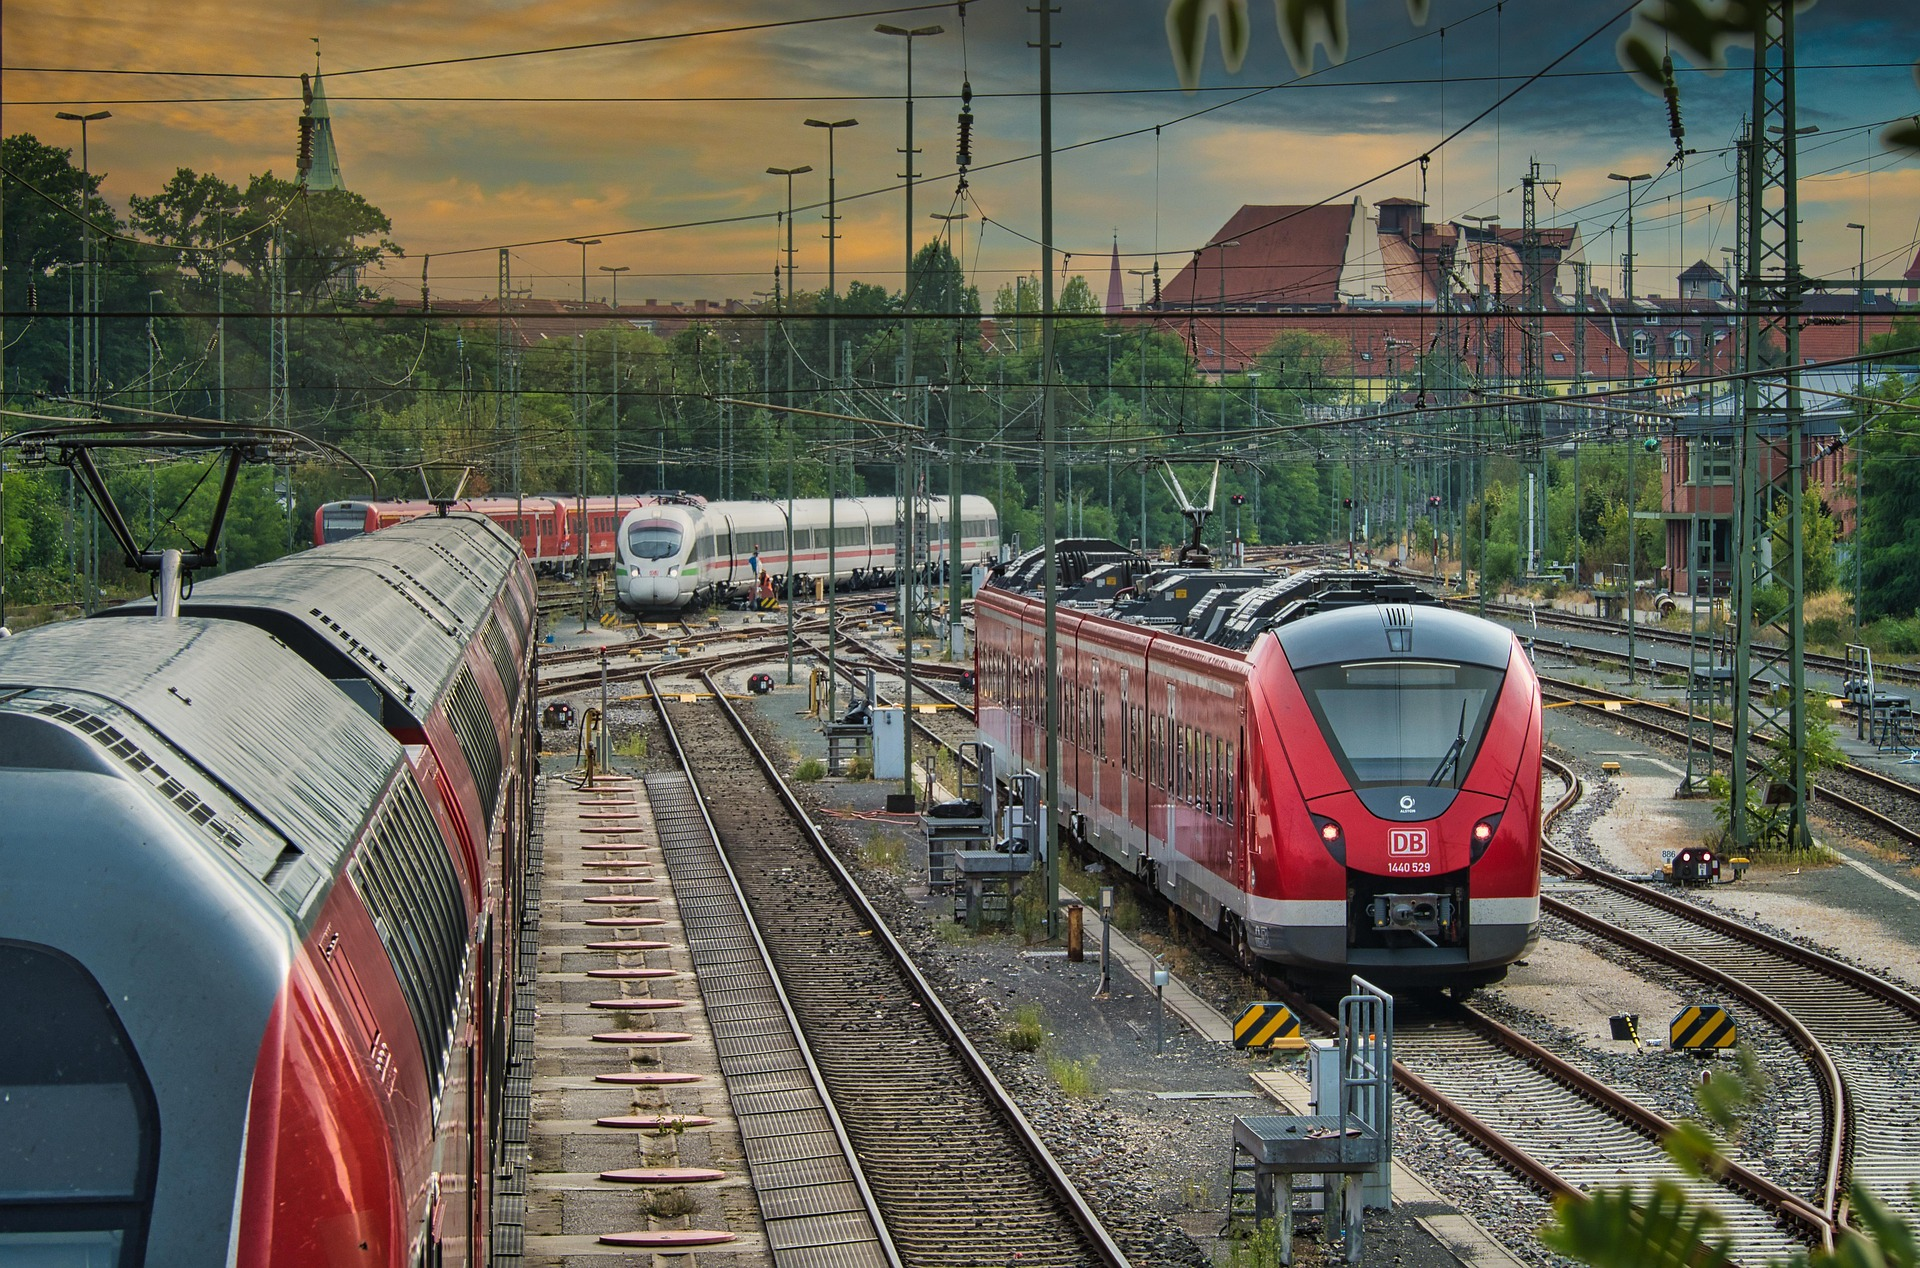train1: (312, 488, 687, 572)
train2: (0, 534, 546, 1264)
train3: (611, 492, 1009, 611)
train4: (967, 534, 1557, 980)
